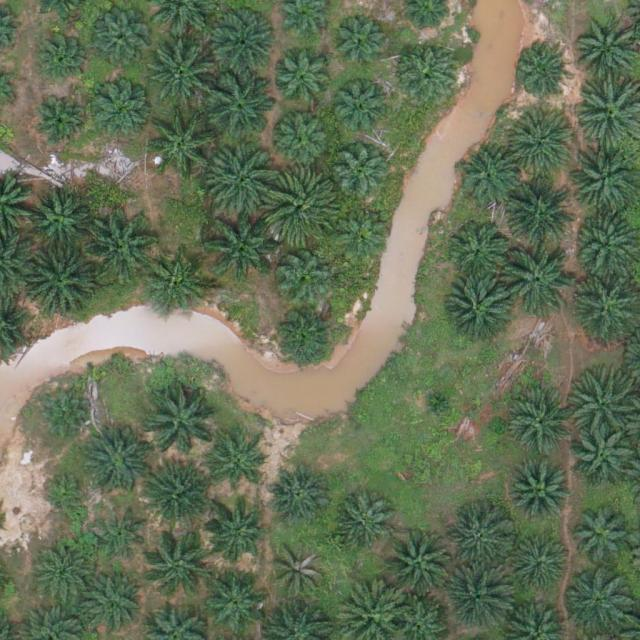Dead: (273, 546, 327, 601)
Healthy: (506, 108, 577, 179), (266, 171, 337, 242), (204, 6, 275, 77), (564, 566, 634, 637), (443, 277, 513, 348), (204, 210, 274, 281), (146, 528, 216, 599), (86, 210, 156, 281), (80, 429, 151, 499), (24, 247, 94, 318), (570, 148, 640, 219), (506, 176, 576, 247), (207, 67, 277, 138), (211, 147, 281, 218), (149, 40, 219, 111), (501, 245, 571, 315), (444, 564, 514, 634), (384, 529, 454, 599), (141, 463, 211, 533), (147, 383, 217, 453), (149, 109, 219, 179), (571, 364, 640, 435), (571, 272, 640, 342), (510, 535, 573, 598), (447, 221, 510, 284), (449, 510, 512, 573), (204, 504, 267, 567), (204, 569, 267, 632), (32, 542, 95, 605), (80, 575, 143, 638), (329, 79, 392, 142), (459, 146, 522, 209), (571, 507, 633, 570), (572, 426, 634, 489), (510, 463, 573, 525), (332, 492, 394, 555), (273, 305, 335, 368), (267, 464, 330, 526), (275, 48, 338, 110), (397, 41, 459, 104), (90, 13, 152, 76), (89, 79, 152, 141), (28, 188, 90, 251), (510, 395, 572, 457), (146, 256, 208, 318), (273, 108, 335, 170), (276, 248, 331, 303), (95, 509, 150, 564), (36, 389, 91, 444), (514, 42, 569, 97), (336, 207, 391, 262), (34, 97, 89, 152), (212, 439, 266, 494), (335, 149, 389, 204), (332, 11, 386, 66), (33, 28, 87, 83)
Small: (43, 471, 90, 518), (421, 387, 452, 419)
